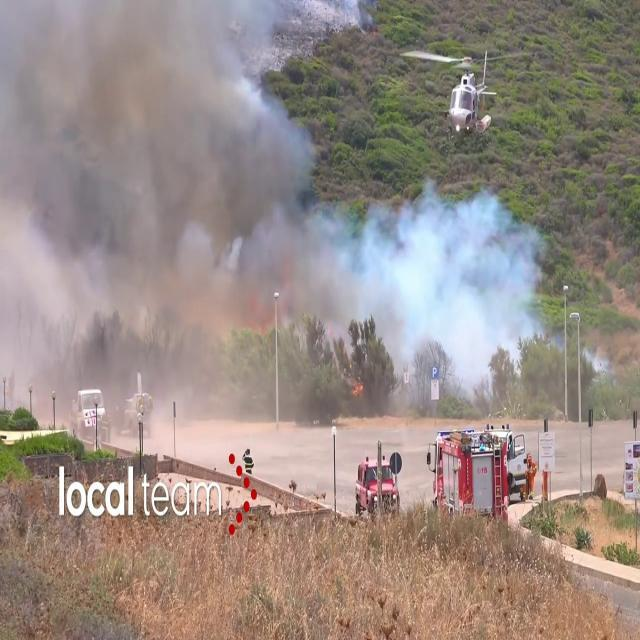Smoke: (0, 0, 328, 372), (314, 166, 548, 400)
